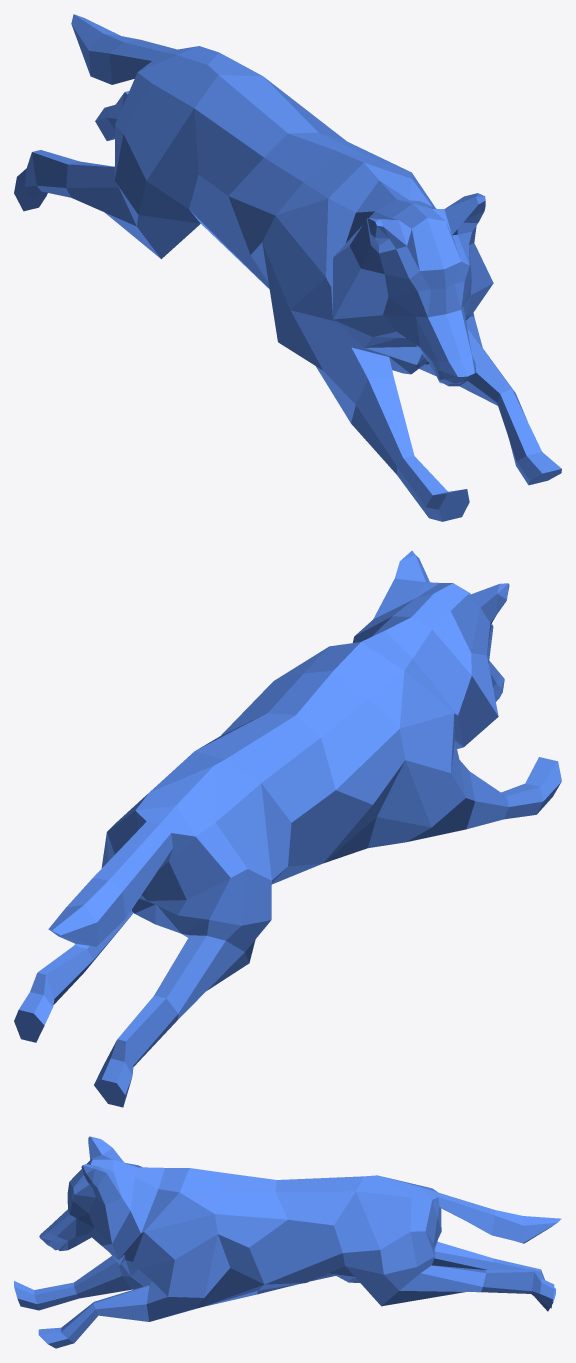
The model's file is wolfRunA_v009004.obj.
3 views of the same model, one above another, from view 1: azimuth 30°, elevation 25°; view 2: azimuth 150°, elevation 25°; view 3: azimuth 270°, elevation 25° (orthographic). The views are drawn at different scales.
Parts seen in each view (by area): view 1: comp_wolf_rig:wolf_body comp_wolf_rig:wolf; view 2: comp_wolf_rig:wolf_body comp_wolf_rig:wolf; view 3: comp_wolf_rig:wolf_body comp_wolf_rig:wolf.
Boxes of the visible parts, box(x1,y1,x2,y2) form: comp_wolf_rig:wolf_body comp_wolf_rig:wolf: box(14, 14, 561, 521); comp_wolf_rig:wolf_body comp_wolf_rig:wolf: box(14, 550, 561, 1107); comp_wolf_rig:wolf_body comp_wolf_rig:wolf: box(14, 1136, 561, 1348).
Bounding box in the file's own units: 36.27 × 51.48 × 149.
